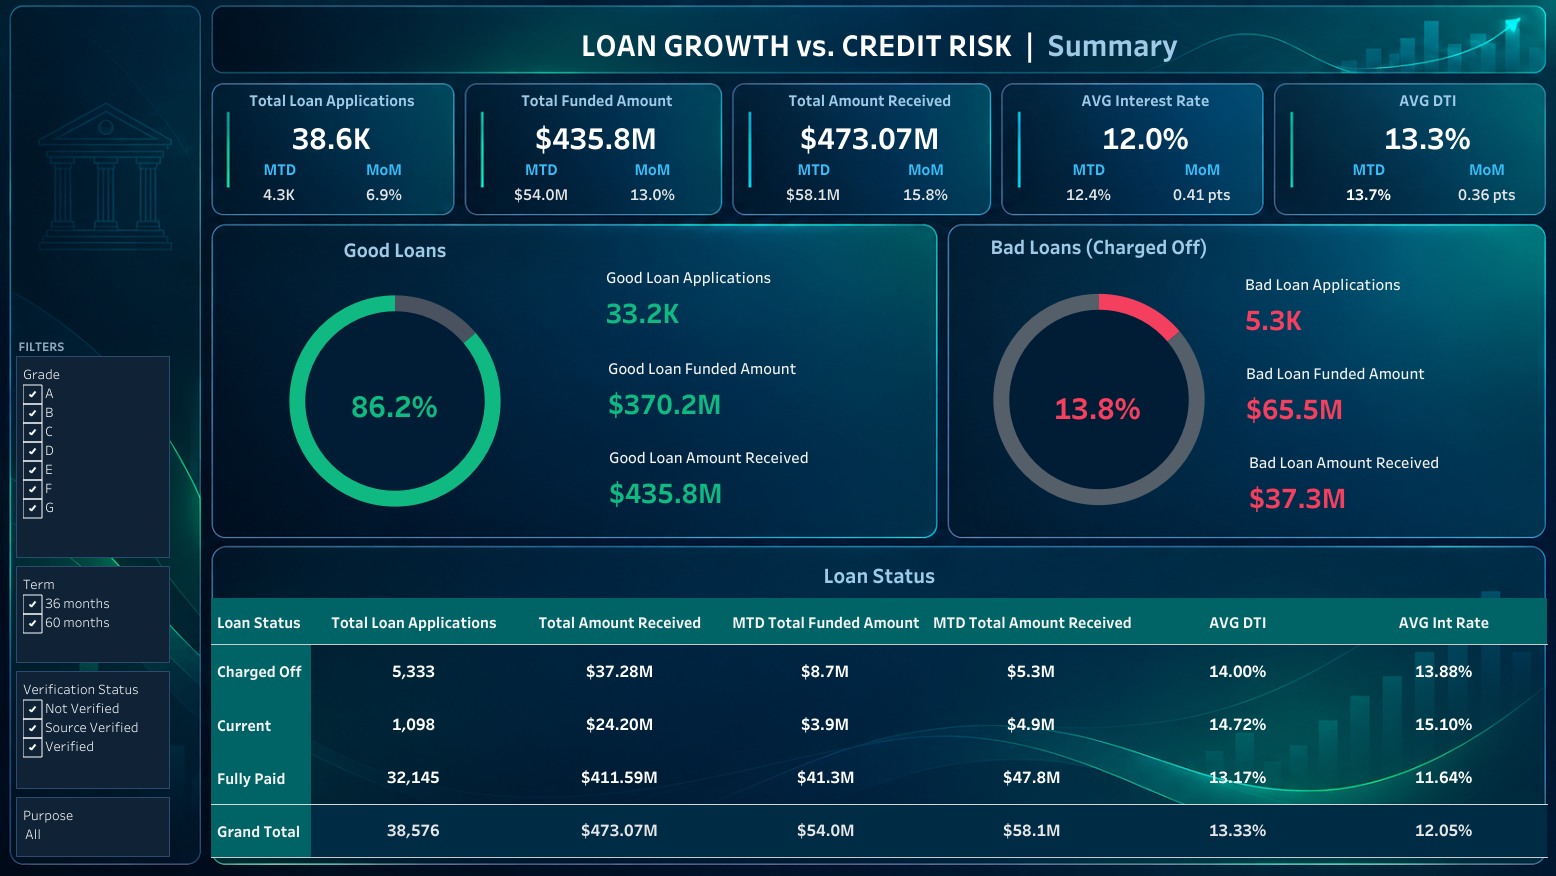

What the dashboard file says about the page in this screenshot:
{"tool":"tableau","page":{"name":"Summary","canvas":[1600,900],"ordinal":3},"visuals":[{"type":"image","param":"Image/image1.png","box":[8,8,1584,884]},{"type":"text","box":[223.1,24,1356.6,64]},{"type":"worksheet","title":"Total Loan Applications","mark":"Automatic","box":[249.6,95.2,208.4,72.9]},{"type":"worksheet","title":"Total Funded Amount","mark":"Automatic","box":[508.2,95.2,221.7,72.9]},{"type":"worksheet","title":"Total Amount Received","mark":"Automatic","box":[780.1,95.2,223.6,72.9]},{"type":"worksheet","title":"AVG Interest Rate","mark":"Automatic","box":[1053.9,95.2,227.4,72.9]},{"type":"worksheet","title":"AVG DTI","mark":"Automatic","box":[1332.4,95.2,235.9,72.9]},{"type":"text","box":[249.6,168.1,104.2,23.4]},{"type":"text","box":[353.8,168.1,104.2,23.4]},{"type":"text","box":[508.2,168.1,110.8,23.4]},{"type":"text","box":[619,168.1,110.8,23.4]},{"type":"text","box":[780.1,168.1,111.8,23.4]},{"type":"text","box":[891.9,168.1,111.8,23.4]},{"type":"text","box":[1053.9,168.1,113.7,23.4]},{"type":"text","box":[1167.6,168.1,113.7,23.4]},{"type":"text","box":[1332.4,168.1,118,23.4]},{"type":"text","box":[1450.4,168.1,118,23.4]},{"type":"worksheet","title":"MTD Total Loan Applications","mark":"Automatic","box":[249.6,190.6,104.2,30.6]},{"type":"worksheet","title":"MoM Loan Applications","mark":"Automatic","box":[353.8,190.6,104.2,30.6]},{"type":"worksheet","title":"MTD Total Funded Amount","mark":"Automatic","box":[508.2,190.6,110.8,30.6]},{"type":"worksheet","title":"MoM Total Funded Amount","mark":"Automatic","box":[619,190.6,110.8,30.6]},{"type":"worksheet","title":"MTD Total Amount Received","mark":"Automatic","box":[780.1,190.6,111.8,30.6]},{"type":"worksheet","title":"MoM Total Amount Received","mark":"Automatic","box":[891.9,190.6,111.8,30.6]},{"type":"worksheet","title":"MTD AVG INT Rate","mark":"Automatic","box":[1053.9,190.6,113.7,30.6]},{"type":"worksheet","title":"MoM AVG Int Rate","mark":"Automatic","box":[1167.6,190.6,113.7,30.6]},{"type":"worksheet","title":"MTD AVG DTI","mark":"Automatic","box":[1332.4,190.6,118,30.6]},{"type":"worksheet","title":"MoM AVG DTI","mark":"Automatic","box":[1450.4,190.6,118,30.6]},{"type":"worksheet","title":"Bad Loan Issued","mark":"Pie","rows":["Calculation_5425451863515168","Calculation_5425451863515168"],"box":[971,239,300,303.5]},{"type":"worksheet","title":"Good Loans Issued","mark":"Pie","rows":["Calculation_5425451863515168","Calculation_5425451863515168"],"box":[266,242,302,300.5]},{"type":"worksheet","title":"Good Loan Applications","mark":"Automatic","box":[620,268,300,75]},{"type":"worksheet","title":"Bad Loan Applications","mark":"Automatic","box":[1259,275,300,75]},{"type":"text","box":[37.5,350,154,16]},{"type":"worksheet","title":"Good Loan Funded Amount","mark":"Automatic","box":[622,359,300,75]},{"type":"worksheet","title":"Bad Loan Funded Amount","mark":"Automatic","box":[1260,364,300,75]},{"type":"filter","title":"Total Loan Applications","param":"[federated.13vzdsn0al6ioo1g1fbnn06qu7pc].[none:grade:nk]","box":[37.5,368,154,202]},{"type":"worksheet","title":"Good Loans Application %","mark":"Automatic","box":[346,380,141,74]},{"type":"worksheet","title":"Bad Loan %","mark":"Automatic","box":[1070,399,124,42]},{"type":"worksheet","title":"Good Loan Amount Received","mark":"Automatic","box":[623,448,300,75]},{"type":"worksheet","title":"Bad Loan Amount Received","mark":"Automatic","box":[1263,453,300,75]},{"type":"worksheet","title":"Loan Status","mark":"Automatic","rows":["loan_status"],"box":[233.5,567,1336.7,303.4]},{"type":"filter","title":"Total Loan Applications","param":"[federated.13vzdsn0al6ioo1g1fbnn06qu7pc].[none:term:nk]","box":[37.5,578,154,97]},{"type":"filter","title":"Total Loan Applications","param":"[federated.13vzdsn0al6ioo1g1fbnn06qu7pc].[none:verification_status:nk]","box":[37.5,683,154,118]},{"type":"filter","title":"Total Loan Applications","param":"[federated.13vzdsn0al6ioo1g1fbnn06qu7pc].[none:purpose:nk]","box":[37.5,809,154,60]}]}

Visuals, with their boxes in screenshot pixels (x1, y1, x2, y2), scaled from the page's 1600x900 canvas onto the 1556x876 screenshot:
image: <bbox>8, 8, 1548, 868</bbox>
text: <bbox>217, 23, 1536, 86</bbox>
"Total Loan Applications" worksheet: <bbox>243, 93, 445, 164</bbox>
"Total Funded Amount" worksheet: <bbox>494, 93, 710, 164</bbox>
"Total Amount Received" worksheet: <bbox>759, 93, 976, 164</bbox>
"AVG Interest Rate" worksheet: <bbox>1025, 93, 1246, 164</bbox>
"AVG DTI" worksheet: <bbox>1296, 93, 1525, 164</bbox>
text: <bbox>243, 164, 344, 186</bbox>
text: <bbox>344, 164, 445, 186</bbox>
text: <bbox>494, 164, 602, 186</bbox>
text: <bbox>602, 164, 710, 186</bbox>
text: <bbox>759, 164, 867, 186</bbox>
text: <bbox>867, 164, 976, 186</bbox>
text: <bbox>1025, 164, 1135, 186</bbox>
text: <bbox>1135, 164, 1246, 186</bbox>
text: <bbox>1296, 164, 1411, 186</bbox>
text: <bbox>1411, 164, 1525, 186</bbox>
"MTD Total Loan Applications" worksheet: <bbox>243, 186, 344, 215</bbox>
"MoM Loan Applications" worksheet: <bbox>344, 186, 445, 215</bbox>
"MTD Total Funded Amount" worksheet: <bbox>494, 186, 602, 215</bbox>
"MoM Total Funded Amount" worksheet: <bbox>602, 186, 710, 215</bbox>
"MTD Total Amount Received" worksheet: <bbox>759, 186, 867, 215</bbox>
"MoM Total Amount Received" worksheet: <bbox>867, 186, 976, 215</bbox>
"MTD AVG INT Rate" worksheet: <bbox>1025, 186, 1135, 215</bbox>
"MoM AVG Int Rate" worksheet: <bbox>1135, 186, 1246, 215</bbox>
"MTD AVG DTI" worksheet: <bbox>1296, 186, 1411, 215</bbox>
"MoM AVG DTI" worksheet: <bbox>1411, 186, 1525, 215</bbox>
"Bad Loan Issued" worksheet (Pie marks): <bbox>944, 233, 1236, 528</bbox>
"Good Loans Issued" worksheet (Pie marks): <bbox>259, 236, 552, 528</bbox>
"Good Loan Applications" worksheet: <bbox>603, 261, 895, 334</bbox>
"Bad Loan Applications" worksheet: <bbox>1224, 268, 1516, 341</bbox>
text: <bbox>36, 341, 186, 356</bbox>
"Good Loan Funded Amount" worksheet: <bbox>605, 349, 897, 422</bbox>
"Bad Loan Funded Amount" worksheet: <bbox>1225, 354, 1517, 427</bbox>
"Total Loan Applications" filter: <bbox>36, 358, 186, 555</bbox>
"Good Loans Application %" worksheet: <bbox>336, 370, 474, 442</bbox>
"Bad Loan %" worksheet: <bbox>1041, 388, 1161, 429</bbox>
"Good Loan Amount Received" worksheet: <bbox>606, 436, 898, 509</bbox>
"Bad Loan Amount Received" worksheet: <bbox>1228, 441, 1520, 514</bbox>
"Loan Status" worksheet: <bbox>227, 552, 1527, 847</bbox>
"Total Loan Applications" filter: <bbox>36, 563, 186, 657</bbox>
"Total Loan Applications" filter: <bbox>36, 665, 186, 780</bbox>
"Total Loan Applications" filter: <bbox>36, 787, 186, 846</bbox>
